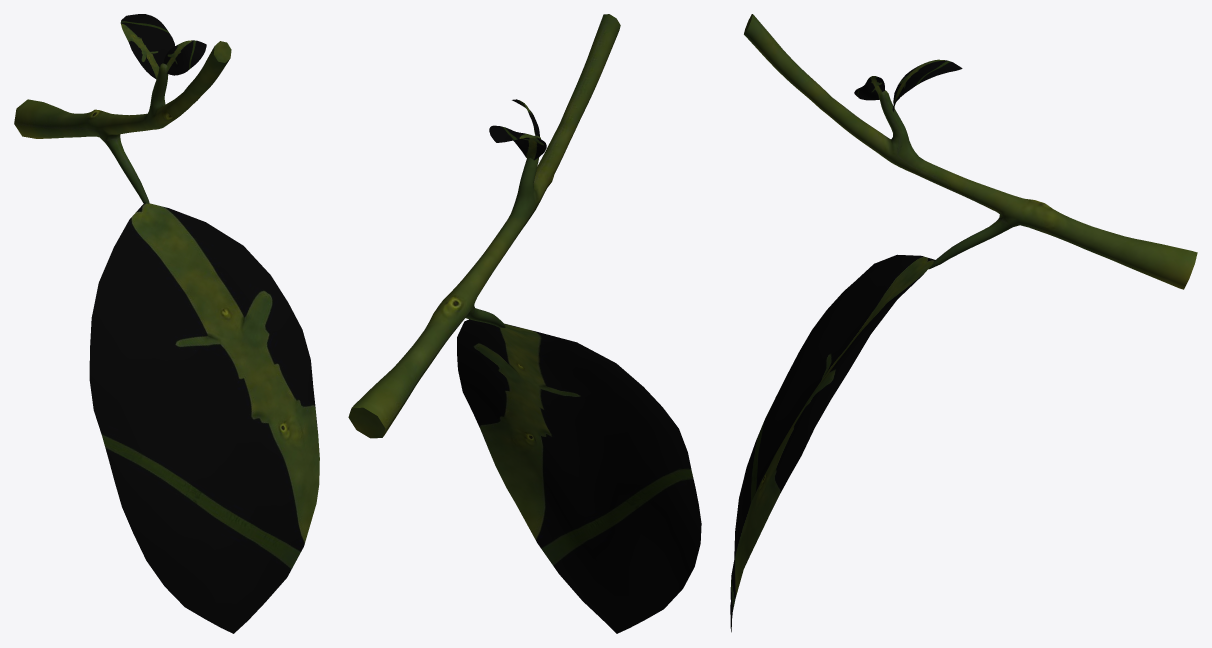
Rendered from twig.glb.
3 renders of one model, left to right at view 1: azimuth 30°, elevation 25°; view 2: azimuth 150°, elevation 25°; view 3: azimuth 270°, elevation 25°, orthographic. The views are drawn at different scales.
Parts seen in each view (by area): view 1: twig; view 2: twig; view 3: twig.
Boxes of the visible parts, x1,y1,x2,y2 form: twig: (14, 14, 319, 633); twig: (348, 14, 701, 633); twig: (730, 14, 1197, 632).
Size of the model in its own units: 0.3811 by 1 by 0.6851.
1 material, 1 textured.
